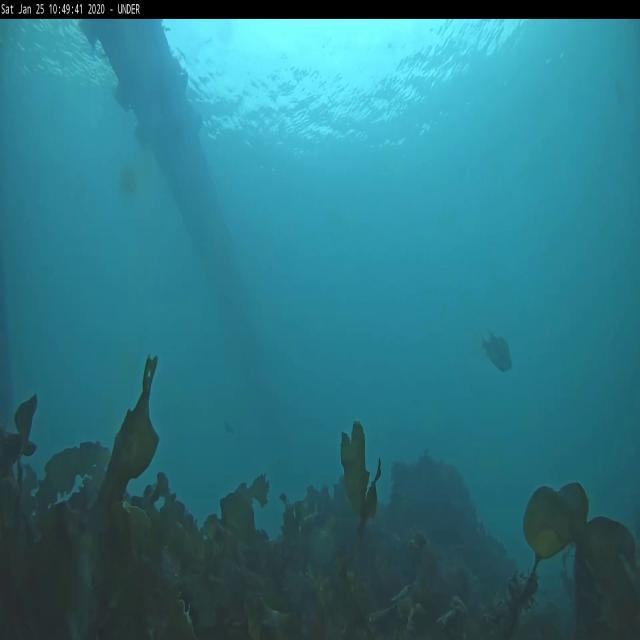fish: (478, 332, 511, 372)
